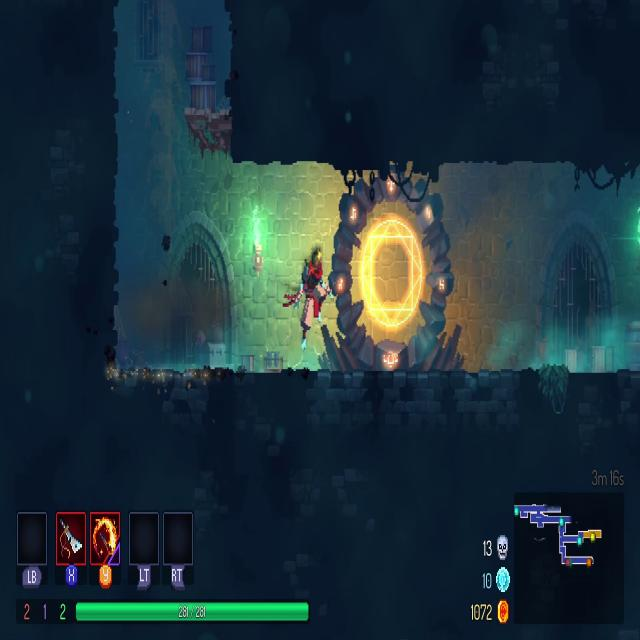agents: (295, 246, 331, 352)
wood_floor: (184, 102, 234, 162)
